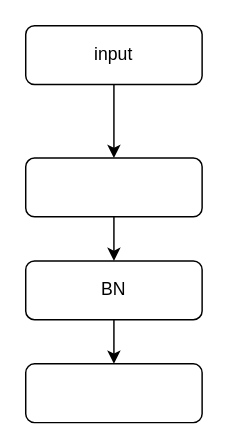
Some shapes in this 228 by 448 pixel diagram are drawn without their labels. The shapes that lost their labels are listed below. From the top down, each one's centre as x and y in pixels, then its label:
At [113,187]: "conv".
At [113,392]: "Relu".
